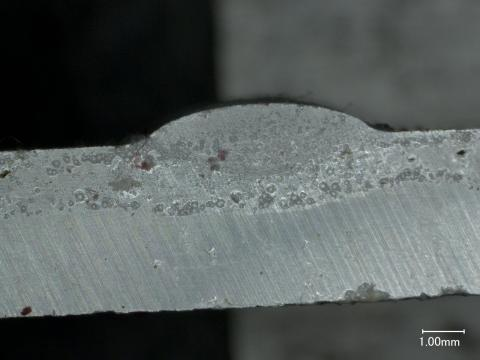test: (128, 103, 374, 143)
